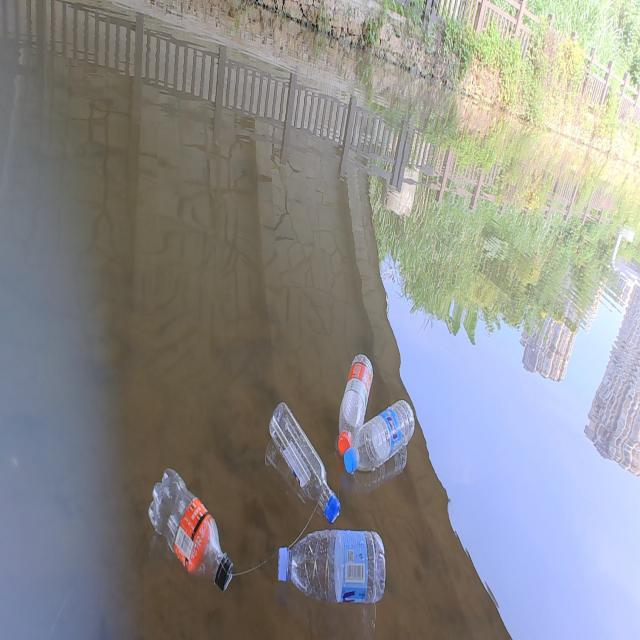bottle: (146, 463, 242, 600), (250, 396, 347, 524), (269, 529, 399, 611), (340, 398, 429, 476), (336, 330, 376, 454)
